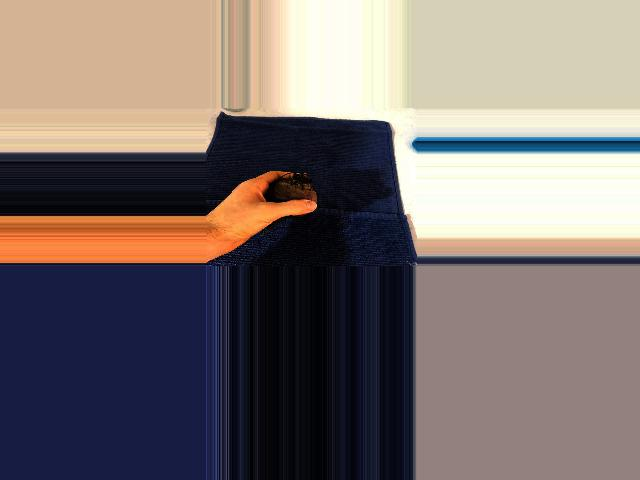beet: (266, 172, 317, 234)
